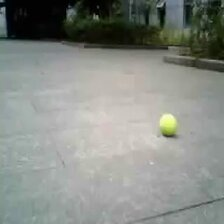tennis: (159, 113, 177, 137)
